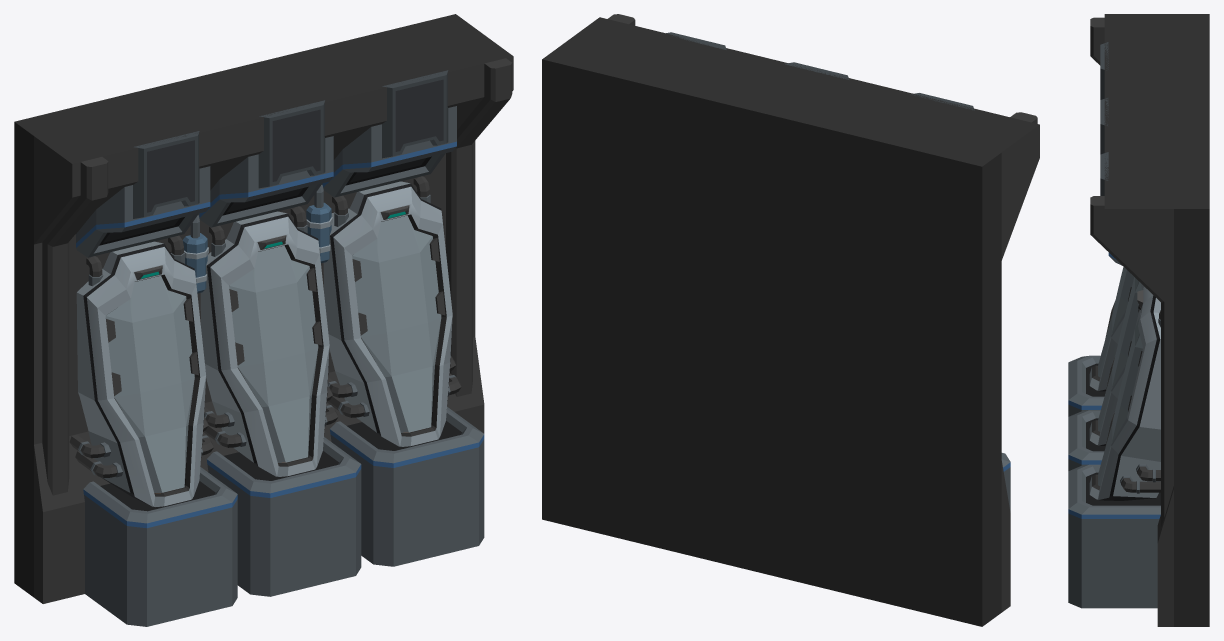
Rendered from SM_Bld_Wall_Pods_01.fbx.
3 renders of one model, left to right at view 1: azimuth 30°, elevation 25°; view 2: azimuth 150°, elevation 25°; view 3: azimuth 270°, elevation 25°, orthographic. The views are drawn at different scales.
Visible parts, largest first — view 1: SM_Bld_Wall_Pods_01, SM_Bld_Wall_Pods_Glass_01; view 2: SM_Bld_Wall_Pods_01; view 3: SM_Bld_Wall_Pods_01, SM_Bld_Wall_Pods_Glass_01.
Part boxes in pixels (x1,y1,x2,y2): SM_Bld_Wall_Pods_01: [14, 14, 513, 626]; SM_Bld_Wall_Pods_Glass_01: [105, 215, 441, 492]; SM_Bld_Wall_Pods_01: [542, 14, 1039, 626]; SM_Bld_Wall_Pods_01: [1068, 14, 1209, 626]; SM_Bld_Wall_Pods_Glass_01: [1098, 266, 1142, 486].
Size of the model in its own units: 500 by 500 by 153.
1 material, 1 textured.
